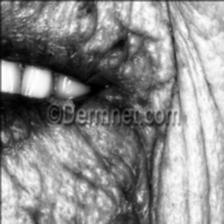Toxin: (87, 124, 155, 224)
